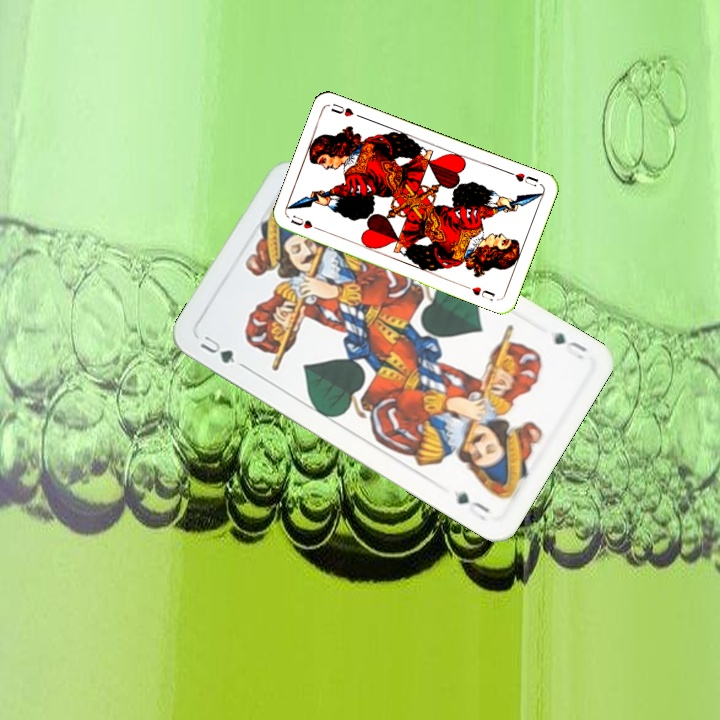GU: (196, 331, 238, 366), (549, 328, 591, 362)
HU: (287, 211, 325, 234), (504, 168, 541, 189)
